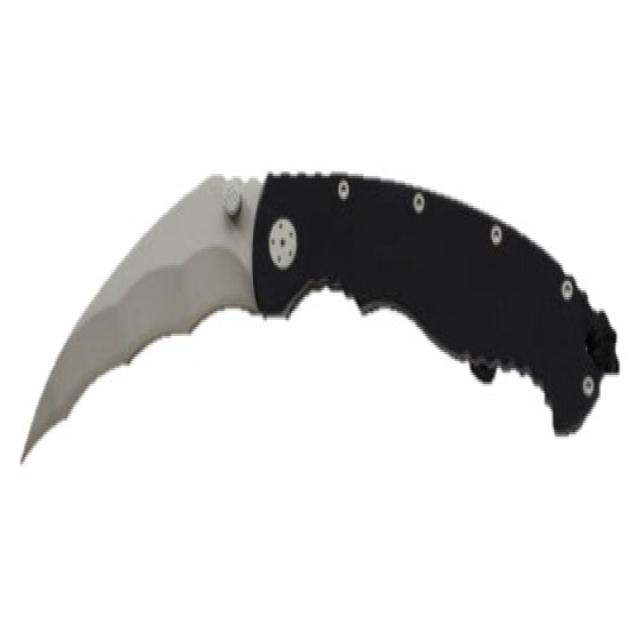knife: (18, 155, 626, 474)
